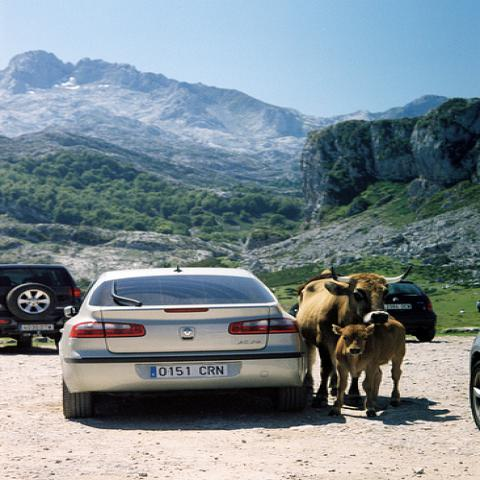car: (58, 268, 318, 420), (6, 266, 84, 347), (384, 279, 437, 341), (468, 328, 479, 434)
